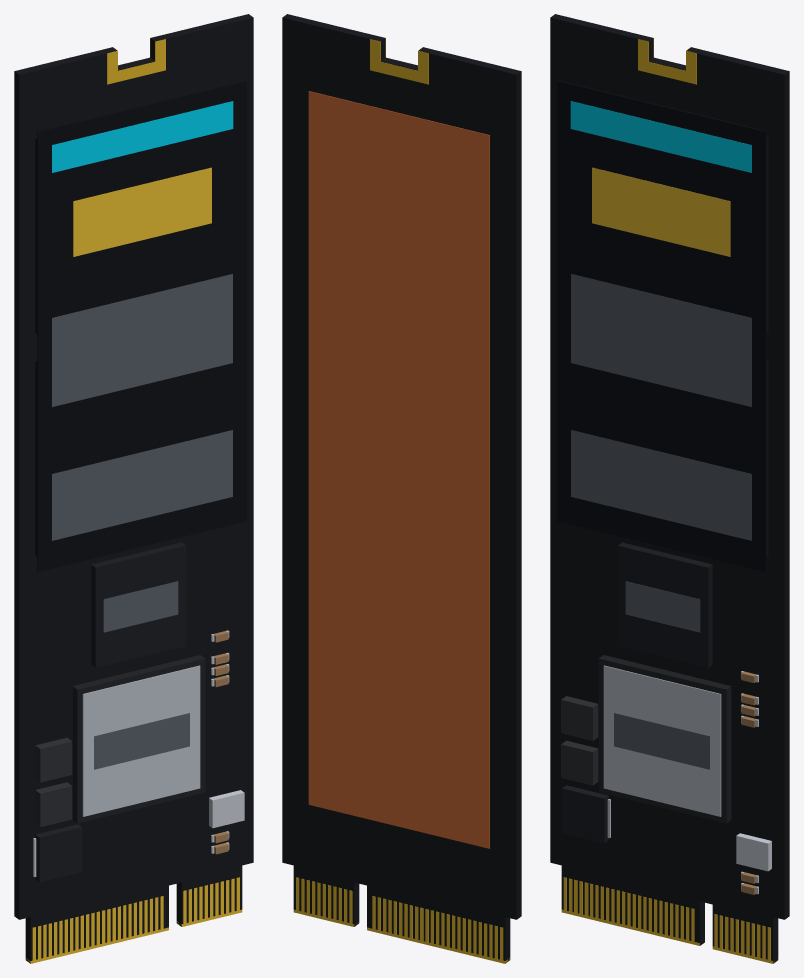
Rendered from SSD_M2_4TB_NVME_PCIE4_LAPTOP.obj.
The picture shows the model from 3 angles, left to right: view 1: azimuth 30°, elevation 25°; view 2: azimuth 150°, elevation 25°; view 3: azimuth 330°, elevation 25°; orthographic projection.
Size of the model in its own units: 22 by 80 by 1.85.
